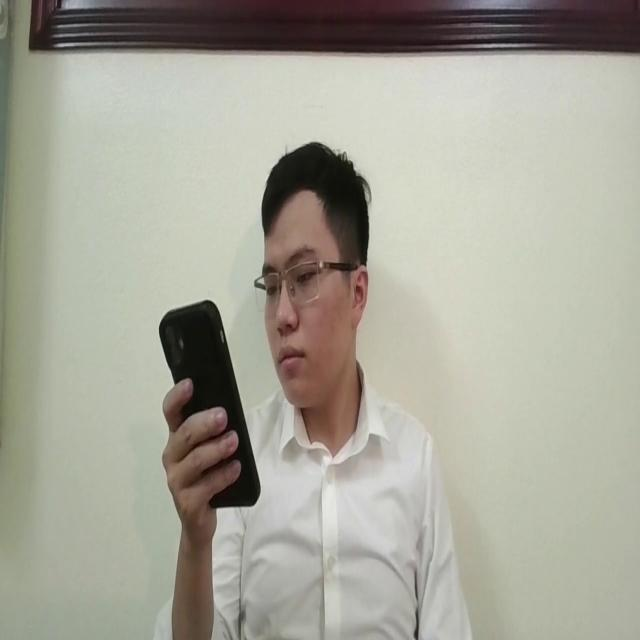phone: (156, 292, 264, 514)
student: (158, 141, 477, 640)
